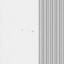dust: (31, 30, 34, 33), (20, 29, 23, 31)
